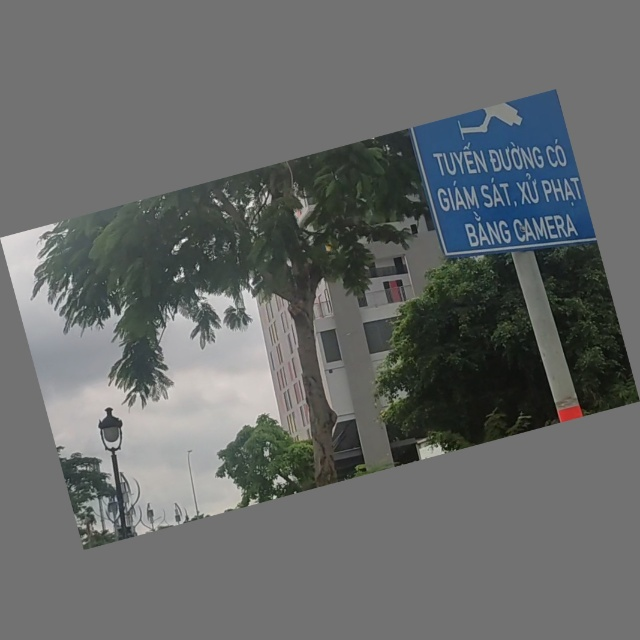Camera: (411, 90, 596, 277)
